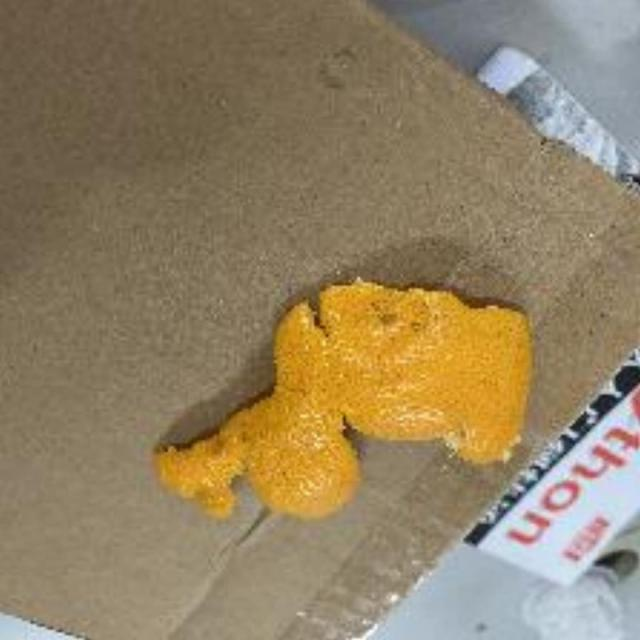orange-peel: (151, 274, 537, 524)
